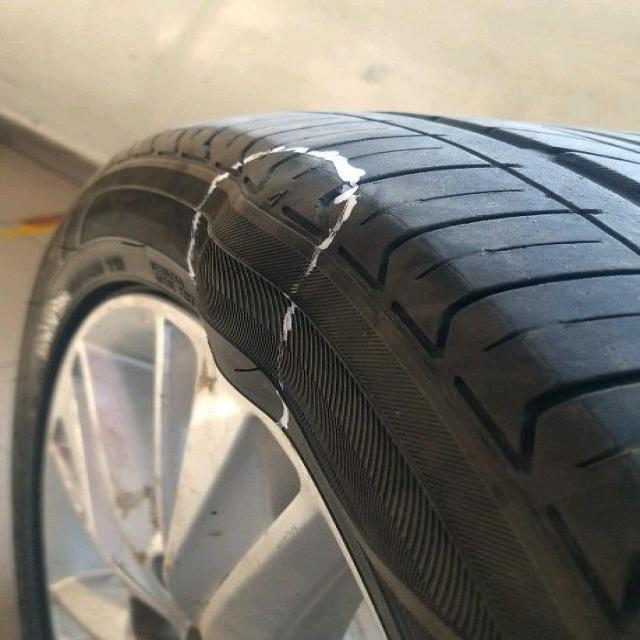Bulge: (190, 153, 344, 409)
